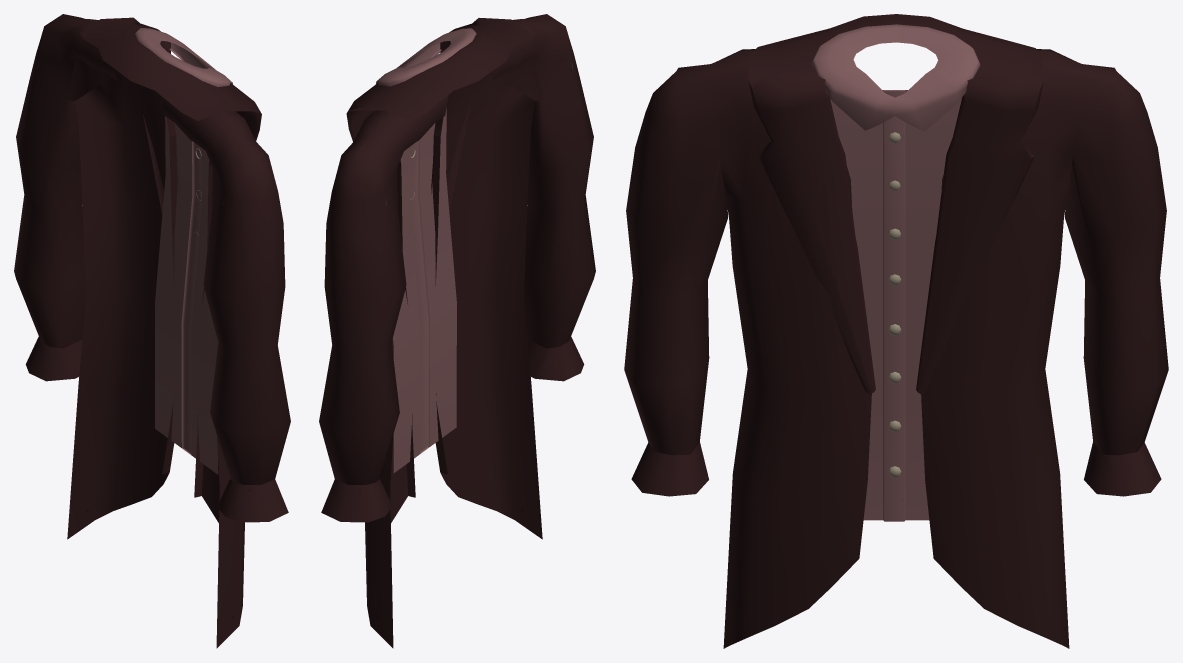
File: Jacket.fbx
3 renders of one model, left to right at view 1: azimuth 30°, elevation 25°; view 2: azimuth 150°, elevation 25°; view 3: azimuth 270°, elevation 25°, orthographic. The views are drawn at different scales.
Visible parts, largest first — view 1: Jacket2, Jacket, Undershirt, JacketPart2, JacketCollar2; view 2: Jacket, Jacket2, Undershirt, JacketPart2, JacketCollar2; view 3: Jacket, Jacket2, JacketPart2, Undershirt, JacketCollar2.
Part boxes in pixels (left/top/right/bottom): Jacket2: left=14, top=14, right=177, bottom=539; Jacket: left=162, top=97, right=290, bottom=648; Undershirt: left=155, top=116, right=218, bottom=474; JacketPart2: left=80, top=17, right=261, bottom=214; JacketCollar2: left=135, top=28, right=232, bottom=86; Jacket: left=432, top=14, right=595, bottom=539; Jacket2: left=319, top=95, right=448, bottom=648; Undershirt: left=393, top=107, right=456, bottom=472; JacketPart2: left=346, top=18, right=531, bottom=213; JacketCollar2: left=376, top=28, right=476, bottom=86; Jacket: left=624, top=49, right=871, bottom=648; Jacket2: left=921, top=49, right=1168, bottom=648; JacketPart2: left=748, top=14, right=1043, bottom=394; Undershirt: left=830, top=90, right=961, bottom=521; JacketCollar2: left=811, top=24, right=980, bottom=131.
Size of the model in its own units: 16.45 by 85.03 by 66.25.
